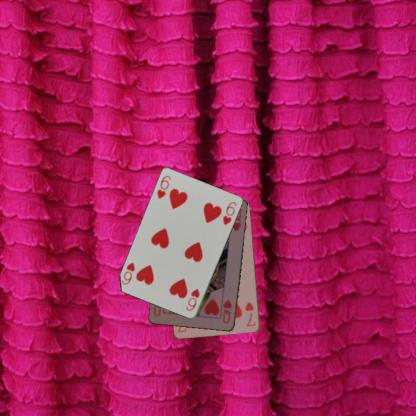6h: (183, 286, 201, 313), (154, 173, 172, 200)
7h: (242, 299, 257, 328)
Qh: (220, 297, 234, 325)
